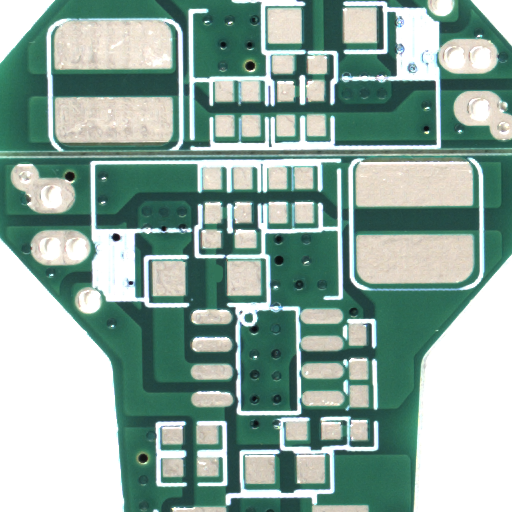Spur: (218, 275, 227, 298)
